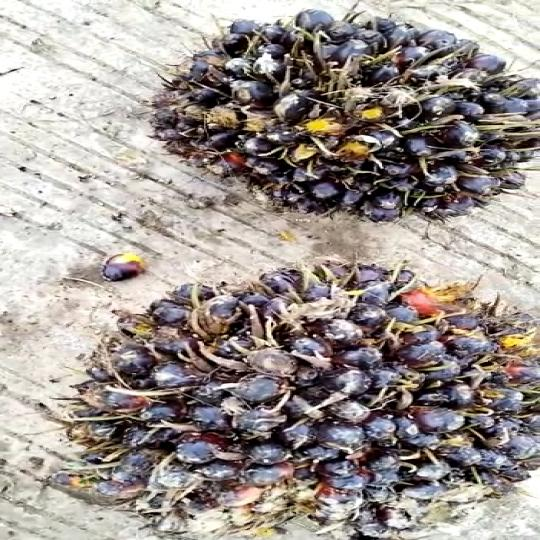mentah: (61, 253, 540, 540), (142, 11, 540, 233)
